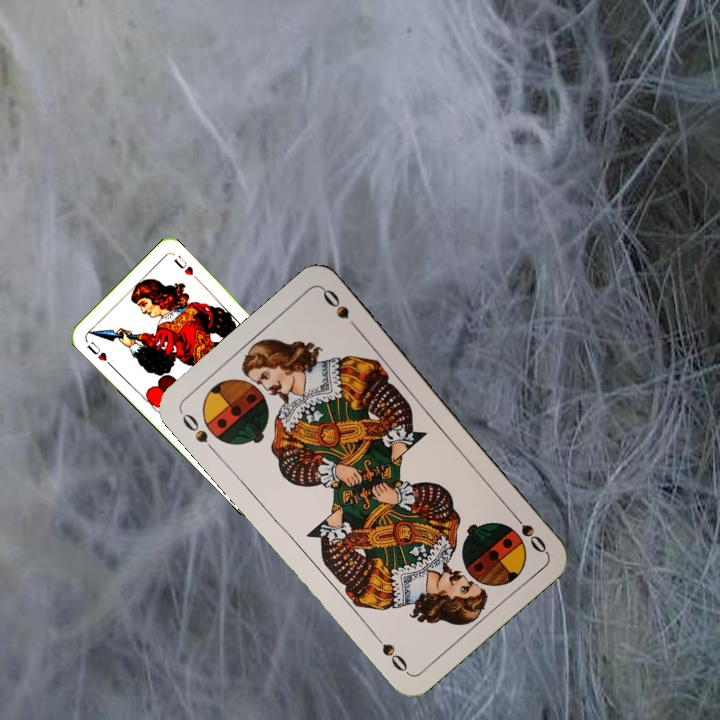HU: (82, 338, 114, 368)
SO: (505, 506, 549, 556), (177, 408, 219, 457)
